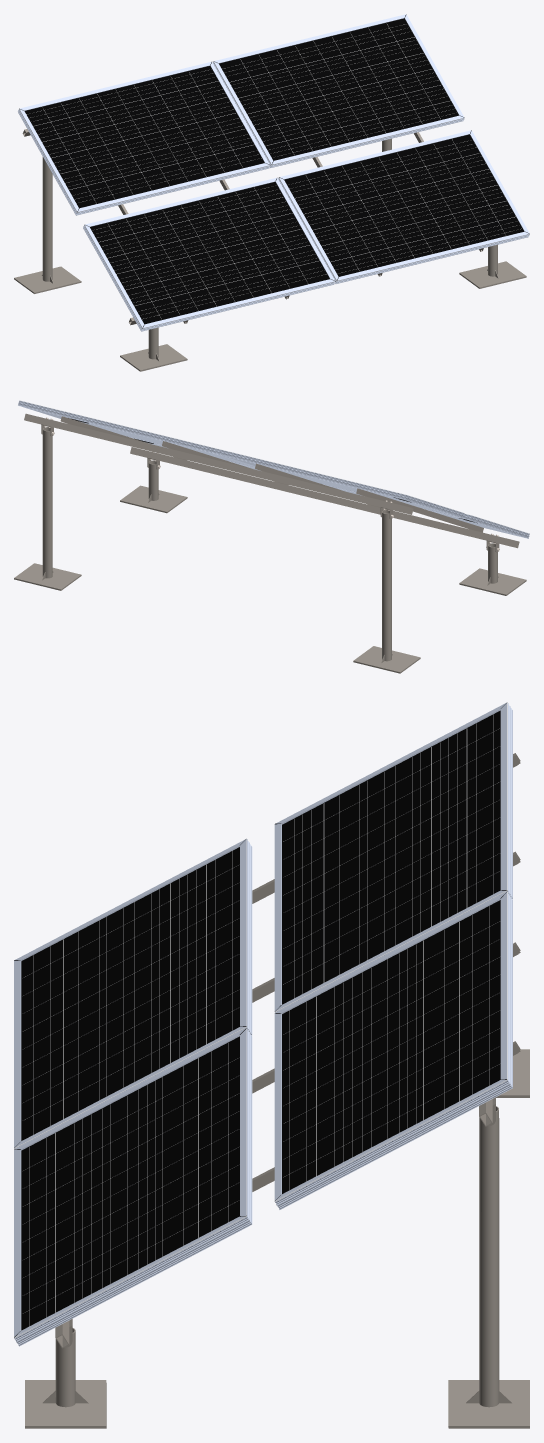
File: tecnologias-emergentes.glb
3 renders of one model, top to bottom at view 1: azimuth 30°, elevation 25°; view 2: azimuth 150°, elevation 25°; view 3: azimuth 270°, elevation 25°, orthographic. The views are drawn at different scales.
Parts seen in each view (by area): view 1: poly crystaline-2; view 2: poly crystaline-2; view 3: poly crystaline-2.
Part boxes in pixels (x1,y1,x2,y2): poly crystaline-2: (14, 14, 529, 371); poly crystaline-2: (14, 400, 529, 673); poly crystaline-2: (14, 702, 529, 1428).
Size of the model in its own units: 3.29 by 1.42 by 1.9.
Materials: 1 (1 with a texture image).
